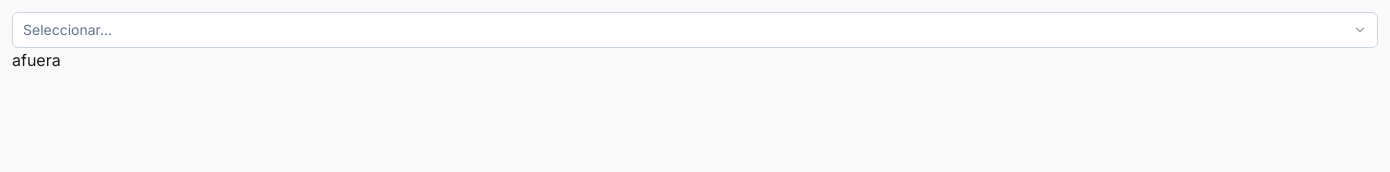
Test: Select › cierra al hacer clic fuera pero no al hacer clic dentro
Later steps or results of the test are not shown.
Click the button at {"x": 68, "y": 30}, box [12, 12, 1378, 48]
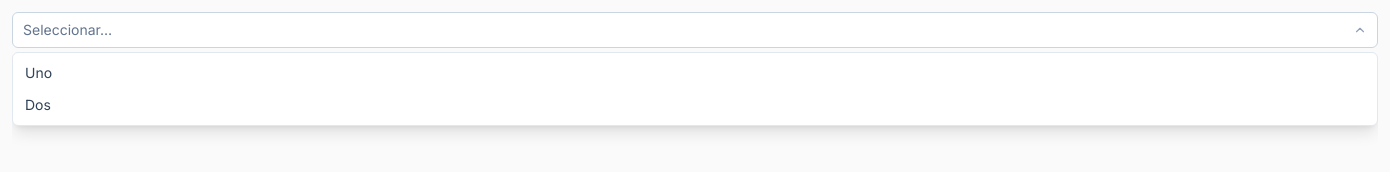
Press the mouse on the list at {"x": 695, "y": 89}, box [12, 52, 1378, 126]
expect the list is shown: met, box [12, 52, 1378, 126]
